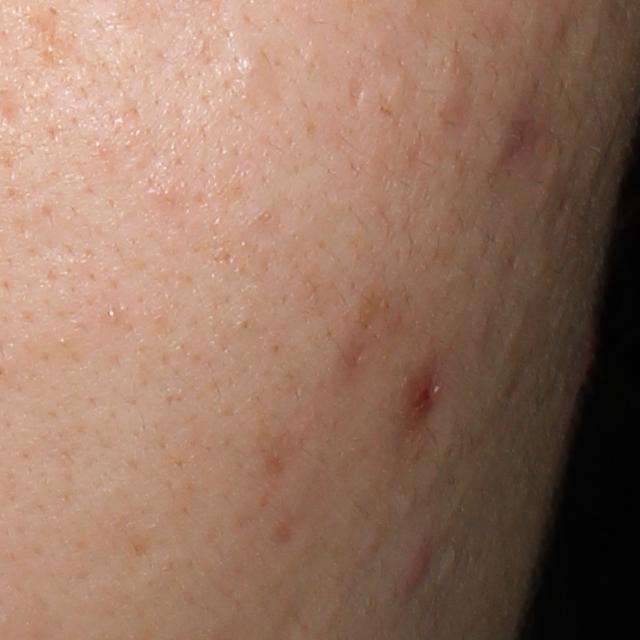atrophic_scar: (345, 74, 363, 107)
comedo: (476, 103, 540, 176), (234, 56, 261, 81), (101, 304, 121, 325)
papule: (396, 544, 432, 598)
